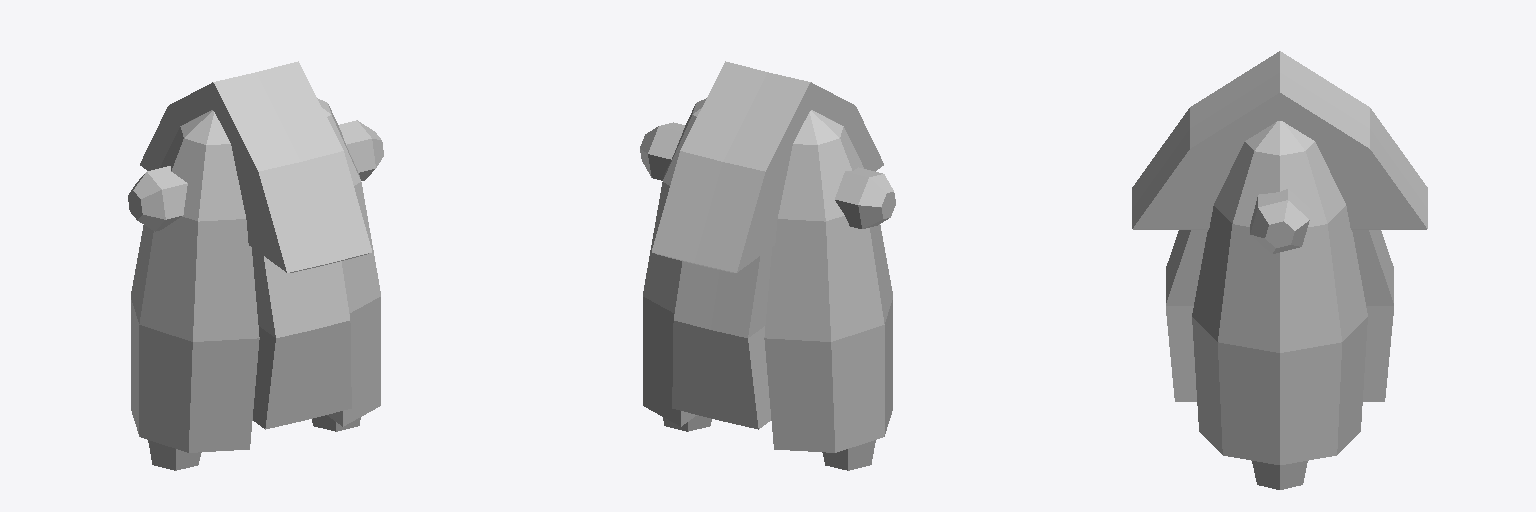
Rendered from Marshyreadyblend.obj.
The picture shows the model from 3 angles: view 1: azimuth 30°, elevation 25°; view 2: azimuth 150°, elevation 25°; view 3: azimuth 270°, elevation 25°; orthographic projection.
Parts seen in each view (by area): view 1: boosters_Sphere.006, cap_Sphere.011, cover_Sphere.009, hinge_Sphere.010, jets_Sphere.013; view 2: boosters_Sphere.006, cap_Sphere.011, cover.001_Sphere, hinge_Sphere.010, jets_Sphere.013; view 3: boosters_Sphere.006, cap_Sphere.011, cover.001_Sphere, cover_Sphere.009, hinge_Sphere.010, jets_Sphere.013.
Boxes of the visible parts, x1=… form: boosters_Sphere.006: x1=131, y1=98, x2=380, y2=452; cap_Sphere.011: x1=140, y1=61, x2=371, y2=272; cover_Sphere.009: x1=252, y1=248, x2=351, y2=429; hinge_Sphere.010: x1=128, y1=120, x2=383, y2=231; jets_Sphere.013: x1=148, y1=415, x2=360, y2=470; boosters_Sphere.006: x1=643, y1=98, x2=892, y2=452; cap_Sphere.011: x1=652, y1=61, x2=883, y2=272; cover.001_Sphere: x1=672, y1=248, x2=771, y2=429; hinge_Sphere.010: x1=640, y1=122, x2=895, y2=228; jets_Sphere.013: x1=663, y1=415, x2=875, y2=470; boosters_Sphere.006: x1=1192, y1=121, x2=1367, y2=464; cap_Sphere.011: x1=1132, y1=51, x2=1427, y2=229; cover.001_Sphere: x1=1352, y1=230, x2=1393, y2=401; cover_Sphere.009: x1=1166, y1=230, x2=1207, y2=401; hinge_Sphere.010: x1=1250, y1=189, x2=1309, y2=253; jets_Sphere.013: x1=1252, y1=461, x2=1307, y2=489.
Size of the model in its own units: 23.42 by 34.14 by 24.81.